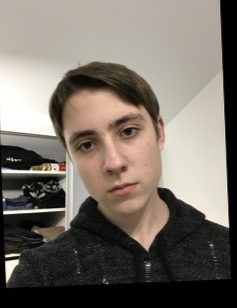without_mask: (67, 110, 162, 216)
